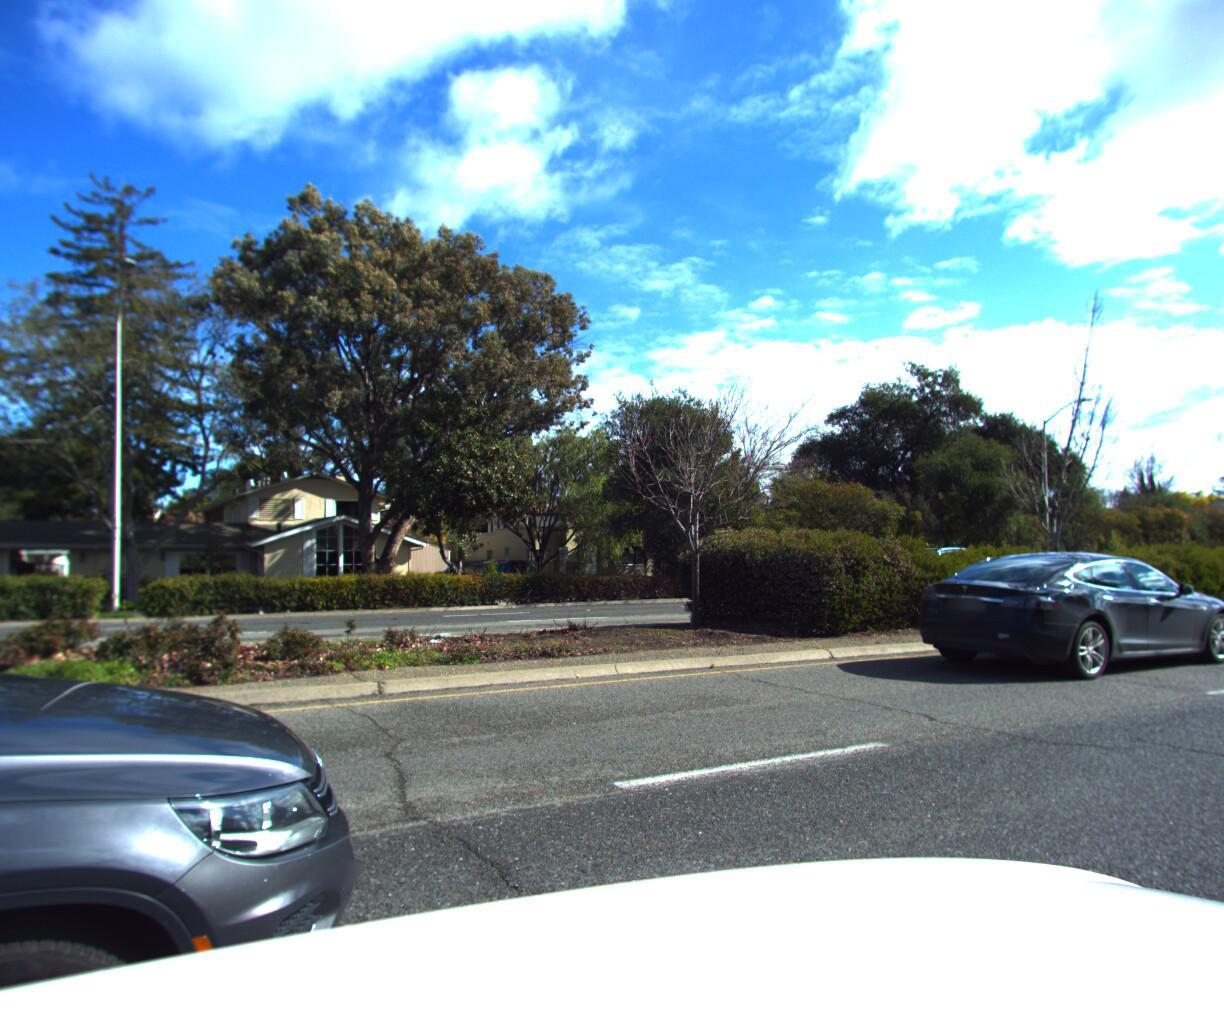car: (0, 248, 433, 1024), (902, 552, 1224, 687)
